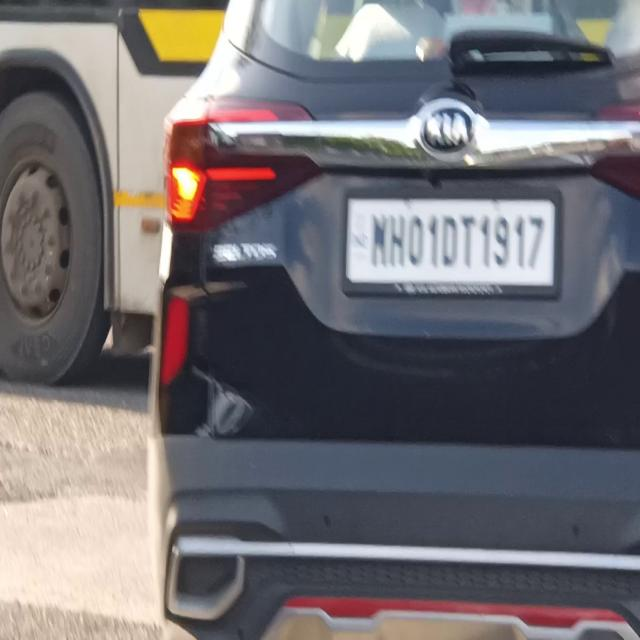Plate: (343, 195, 555, 289)
